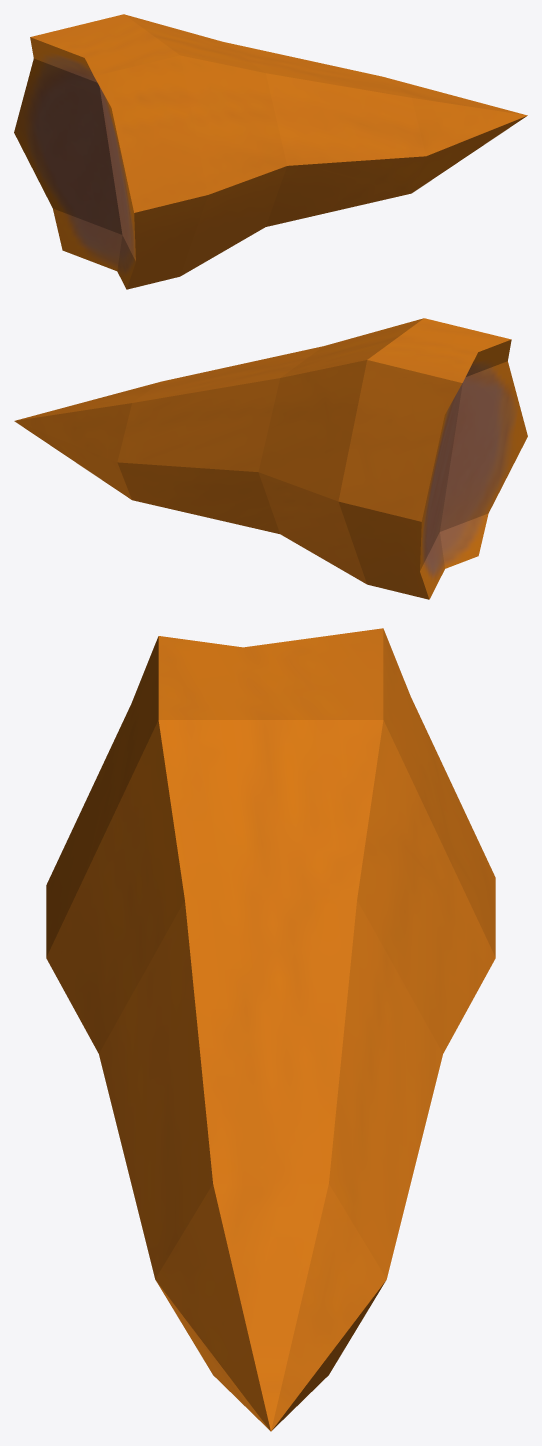
Rendered from Foods_KikiamEaten.fbx.
3 renders of one model, top to bottom at view 1: azimuth 30°, elevation 25°; view 2: azimuth 150°, elevation 25°; view 3: azimuth 270°, elevation 25°, orthographic. The views are drawn at different scales.
Parts seen in each view (by area): view 1: KikiamBite; view 2: KikiamBite; view 3: KikiamBite.
Boxes of the visible parts, x1,y1,x2,y2 form: KikiamBite: [14, 14, 527, 289]; KikiamBite: [14, 318, 527, 599]; KikiamBite: [46, 628, 495, 1431].
Size of the model in its own units: 266 by 110 by 120.
Materials: 1 (1 with a texture image).
